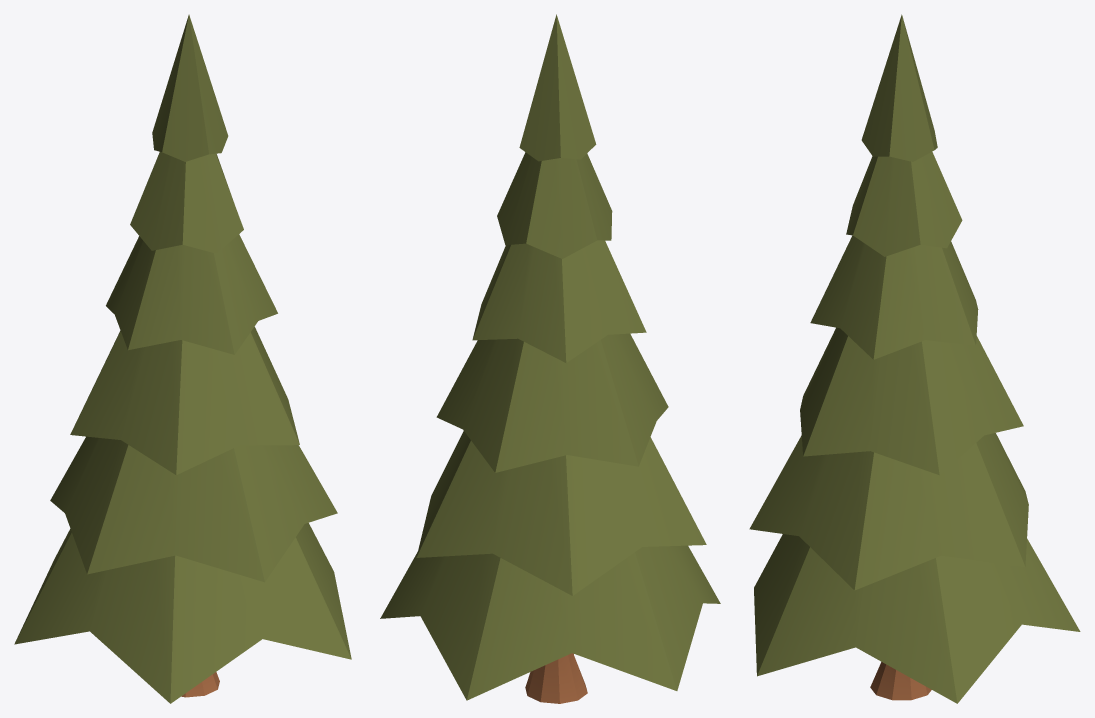
File: Tree3.glb
3 renders of one model, left to right at view 1: azimuth 30°, elevation 25°; view 2: azimuth 150°, elevation 25°; view 3: azimuth 270°, elevation 25°, orthographic.
Parts seen in each view (by area): view 1: Pinetree Leaves.010; view 2: Pinetree Leaves.010; view 3: Pinetree Leaves.010.
Boxes of the visible parts, x1,y1,x2,y2 form: Pinetree Leaves.010: (14, 14, 351, 703); Pinetree Leaves.010: (380, 14, 720, 703); Pinetree Leaves.010: (749, 14, 1080, 703).
Bounding box in the file's own units: 2.3 × 5 × 2.23.
